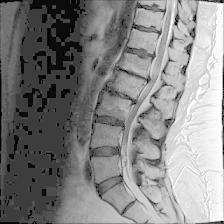disc: (91, 174, 131, 198), (88, 141, 124, 163), (122, 44, 159, 63), (130, 20, 164, 38), (136, 1, 168, 16)
hdisc: (104, 86, 144, 109), (115, 65, 156, 86), (91, 112, 129, 133)
